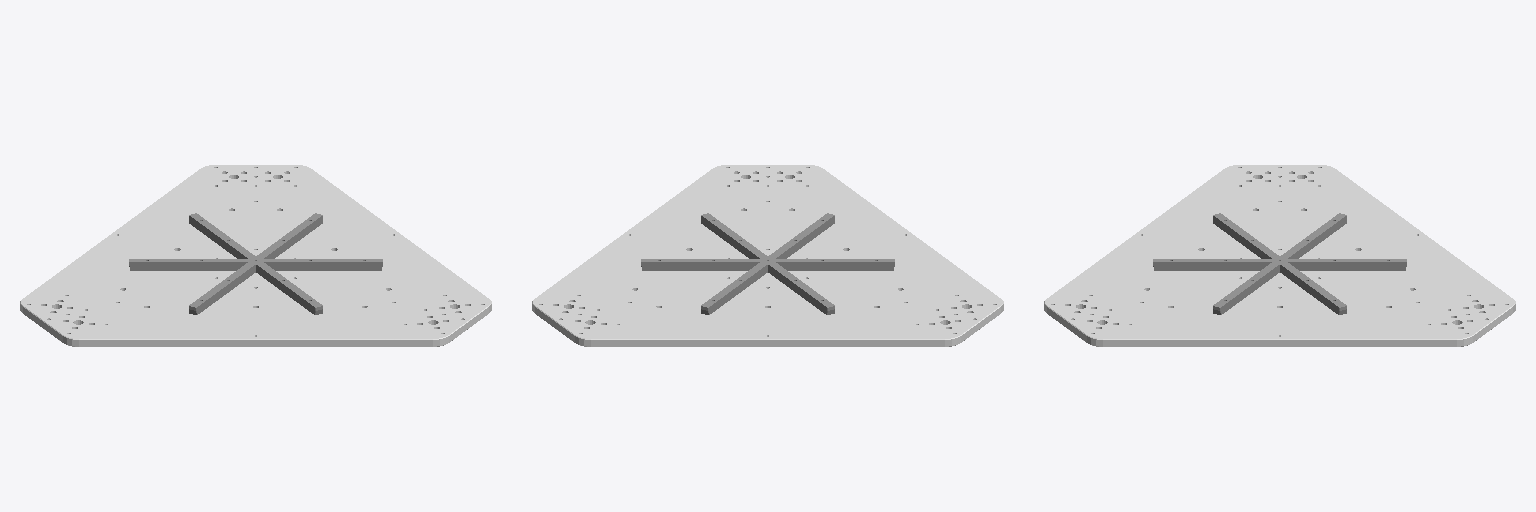
The robot description file, URDF, robot "std04_0100_plateaux_m600_mobile_aluminium":
<!--URDF generated by ONSHAPE BY PTC INC, 1.212-->
<robot name="std04_0100_plateaux_m600_mobile_aluminium">
    <link name="root">
        <visual>
            <origin xyz="0.25 0.15 -0.002" rpy="0 1.5708 -0.433633" />
            <geometry>
                <mesh filename="../meshes/64.stl" scale="1000 1000 1000" />
            </geometry>
            <material name="0.231373_0.380392_0.705882_0.000000_0.000000">
                <texture />
                <color rgba="0.231373 0.380392 0.705882 1" />
            </material>
        </visual>
        <visual>
            <origin xyz="0.00490381 0.291506 -0.002" rpy="0 1.5708 -4.62242" />
            <geometry>
                <mesh filename="../meshes/64.stl" scale="1000 1000 1000" />
            </geometry>
            <material name="0.231373_0.380392_0.705882_0.000000_0.000000">
                <texture />
                <color rgba="0.231373 0.380392 0.705882 1" />
            </material>
        </visual>
        <visual>
            <origin xyz="-0.125 -0.216506 -0.05" rpy="-1.5708 -0 2.61799" />
            <geometry>
                <mesh filename="../meshes/71.stl" scale="1000 1000 1000" />
            </geometry>
            <material name="0.647059_0.647059_0.647059_0.000000_0.000000">
                <texture />
                <color rgba="0.647059 0.647059 0.647059 1" />
            </material>
        </visual>
        <visual>
            <origin xyz="0.134808 -0.366506 -0.002" rpy="0 1.5708 -2.52803" />
            <geometry>
                <mesh filename="../meshes/64.stl" scale="1000 1000 1000" />
            </geometry>
            <material name="0.231373_0.380392_0.705882_0.000000_0.000000">
                <texture />
                <color rgba="0.231373 0.380392 0.705882 1" />
            </material>
        </visual>
        <visual>
            <origin xyz="0.25 -0.3 -0.002" rpy="0 1.5708 -0.433633" />
            <geometry>
                <mesh filename="../meshes/64.stl" scale="1000 1000 1000" />
            </geometry>
            <material name="0.231373_0.380392_0.705882_0.000000_0.000000">
                <texture />
                <color rgba="0.231373 0.380392 0.705882 1" />
            </material>
        </visual>
        <visual>
            <origin xyz="-0.125 -0.216506 -0.002" rpy="0 1.5708 -2.52803" />
            <geometry>
                <mesh filename="../meshes/64.stl" scale="1000 1000 1000" />
            </geometry>
            <material name="0.231373_0.380392_0.705882_0.000000_0.000000">
                <texture />
                <color rgba="0.231373 0.380392 0.705882 1" />
            </material>
        </visual>
        <visual>
            <origin xyz="-0.384808 -0.0665064 -0.002" rpy="0 1.5708 -2.52803" />
            <geometry>
                <mesh filename="../meshes/64.stl" scale="1000 1000 1000" />
            </geometry>
            <material name="0.231373_0.380392_0.705882_0.000000_0.000000">
                <texture />
                <color rgba="0.231373 0.380392 0.705882 1" />
            </material>
        </visual>
        <visual>
            <origin xyz="0.25 0 -0.05" rpy="-1.5708 5.55112e-16 -1.5708" />
            <geometry>
                <mesh filename="../meshes/71.stl" scale="1000 1000 1000" />
            </geometry>
            <material name="0.647059_0.647059_0.647059_0.000000_0.000000">
                <texture />
                <color rgba="0.647059 0.647059 0.647059 1" />
            </material>
        </visual>
        <visual>
            <origin xyz="0.00490381 -0.291506 -0.002" rpy="0 1.5708 -2.52803" />
            <geometry>
                <mesh filename="../meshes/64.stl" scale="1000 1000 1000" />
            </geometry>
            <material name="0.231373_0.380392_0.705882_0.000000_0.000000">
                <texture />
                <color rgba="0.231373 0.380392 0.705882 1" />
            </material>
        </visual>
        <visual>
            <origin xyz="0.134808 0.366506 -0.002" rpy="0 1.5708 -4.62242" />
            <geometry>
                <mesh filename="../meshes/64.stl" scale="1000 1000 1000" />
            </geometry>
            <material name="0.231373_0.380392_0.705882_0.000000_0.000000">
                <texture />
                <color rgba="0.231373 0.380392 0.705882 1" />
            </material>
        </visual>
        <visual>
            <origin xyz="0.25 0.3 -0.002" rpy="0 1.5708 -0.433633" />
            <geometry>
                <mesh filename="../meshes/64.stl" scale="1000 1000 1000" />
            </geometry>
            <material name="0.231373_0.380392_0.705882_0.000000_0.000000">
                <texture />
                <color rgba="0.231373 0.380392 0.705882 1" />
            </material>
        </visual>
        <visual>
            <origin xyz="-0.384808 0.0665064 -0.002" rpy="0 1.5708 -4.62242" />
            <geometry>
                <mesh filename="../meshes/64.stl" scale="1000 1000 1000" />
            </geometry>
            <material name="0.231373_0.380392_0.705882_0.000000_0.000000">
                <texture />
                <color rgba="0.231373 0.380392 0.705882 1" />
            </material>
        </visual>
        <visual>
            <origin xyz="-0.125 0.216506 -0.002" rpy="0 1.5708 -4.62242" />
            <geometry>
                <mesh filename="../meshes/64.stl" scale="1000 1000 1000" />
            </geometry>
            <material name="0.231373_0.380392_0.705882_0.000000_0.000000">
                <texture />
                <color rgba="0.231373 0.380392 0.705882 1" />
            </material>
        </visual>
        <visual>
            <origin xyz="0.25 -0.15 -0.002" rpy="0 1.5708 -0.433633" />
            <geometry>
                <mesh filename="../meshes/64.stl" scale="1000 1000 1000" />
            </geometry>
            <material name="0.231373_0.380392_0.705882_0.000000_0.000000">
                <texture />
                <color rgba="0.231373 0.380392 0.705882 1" />
            </material>
        </visual>
        <visual>
            <origin xyz="-0.254904 0.141506 -0.002" rpy="0 1.5708 -4.62242" />
            <geometry>
                <mesh filename="../meshes/64.stl" scale="1000 1000 1000" />
            </geometry>
            <material name="0.231373_0.380392_0.705882_0.000000_0.000000">
                <texture />
                <color rgba="0.231373 0.380392 0.705882 1" />
            </material>
        </visual>
        <visual>
            <origin xyz="0 0 0" rpy="0 -0 0" />
            <geometry>
                <mesh filename="../meshes/111.stl" scale="1000 1000 1000" />
            </geometry>
            <material name="0.917647_0.917647_0.917647_0.000000_0.000000">
                <texture />
                <color rgba="0.917647 0.917647 0.917647 1" />
            </material>
        </visual>
        <visual>
            <origin xyz="-0.125 0.216506 -0.05" rpy="-1.5708 -0 0.523599" />
            <geometry>
                <mesh filename="../meshes/71.stl" scale="1000 1000 1000" />
            </geometry>
            <material name="0.647059_0.647059_0.647059_0.000000_0.000000">
                <texture />
                <color rgba="0.647059 0.647059 0.647059 1" />
            </material>
        </visual>
        <visual>
            <origin xyz="-0.254904 -0.141506 -0.002" rpy="0 1.5708 -2.52803" />
            <geometry>
                <mesh filename="../meshes/64.stl" scale="1000 1000 1000" />
            </geometry>
            <material name="0.231373_0.380392_0.705882_0.000000_0.000000">
                <texture />
                <color rgba="0.231373 0.380392 0.705882 1" />
            </material>
        </visual>
        <visual>
            <origin xyz="0.25 0 -0.002" rpy="0 1.5708 -0.433633" />
            <geometry>
                <mesh filename="../meshes/64.stl" scale="1000 1000 1000" />
            </geometry>
            <material name="0.231373_0.380392_0.705882_0.000000_0.000000">
                <texture />
                <color rgba="0.231373 0.380392 0.705882 1" />
            </material>
        </visual>
    </link>
</robot>

--- Render facts (derived) ---
3 views of the same robot in one strip: view 1: azimuth 30°, elevation 25°; view 2: azimuth 150°, elevation 25°; view 3: azimuth 270°, elevation 25° (orthographic).
Model std04_0100_plateaux_m600_mobile_aluminium with 1 links and 0 joints (none), rooted at root, posed all joints at 0.
Visible links, largest first — view 1: root; view 2: root; view 3: root.
Boxes of the visible links, bbox=[...] form: root: bbox=[20, 165, 491, 346]; root: bbox=[532, 165, 1003, 346]; root: bbox=[1044, 165, 1515, 346].
Size in the robot's own frame: 1141 by 1301 by 69.95 metres.
Meshes: 3 distinct files referenced, 19 mesh visuals loaded (3 ASCII STL).
